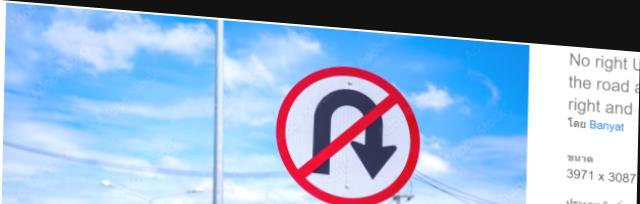not_u_turn_right: (271, 51, 425, 204)
